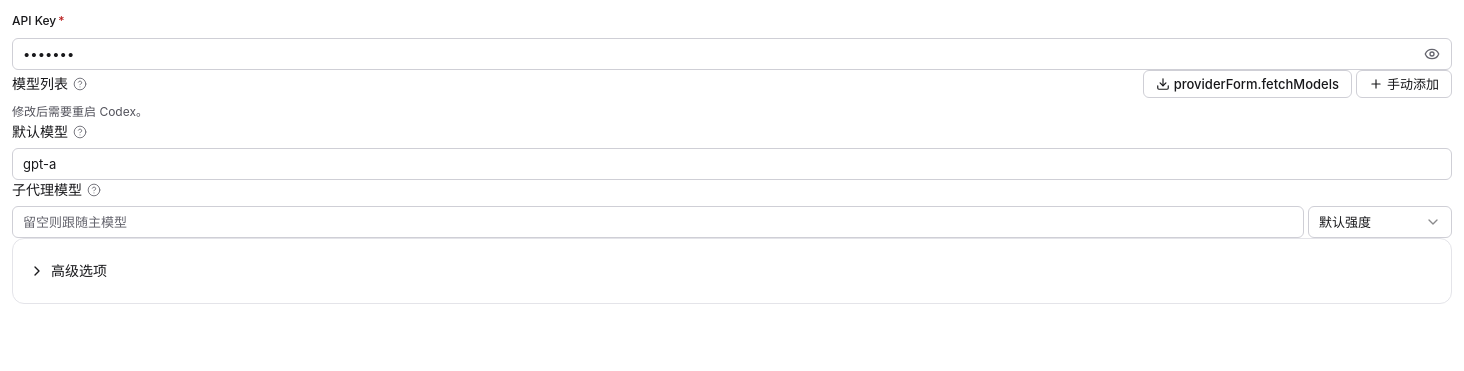
CodexFormFields direct layout › shows the default model field below an empty list, and seeds the first row with it
This screenshot has width=1464, height=371.
Step 1. Click the button "手动添加" → (1404, 84), box [1356,70,1452,98]
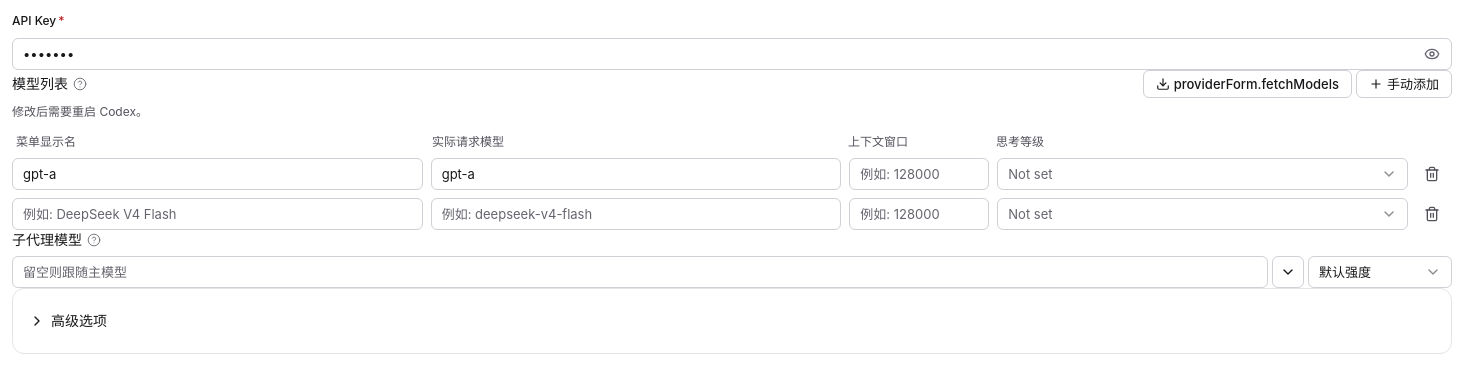
Now the label with id "codexDefaultModel" is gone
